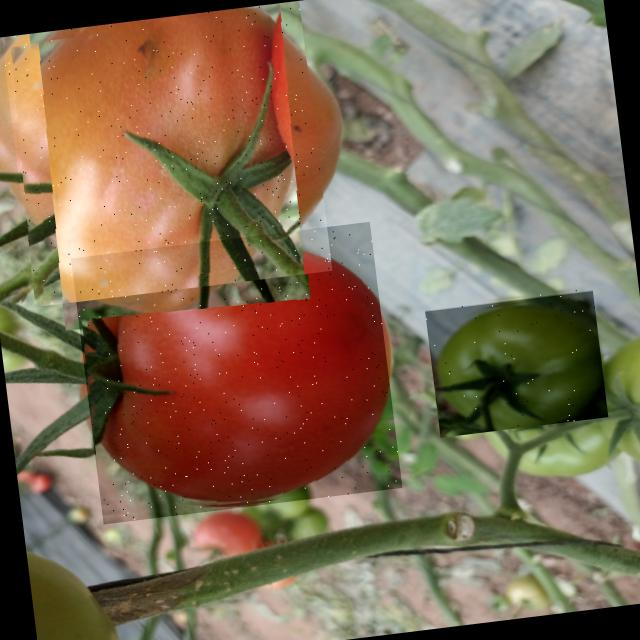Ripe Tomato: (1, 0, 332, 307), (71, 221, 402, 524)
Unripe Tomato: (424, 287, 608, 437)
